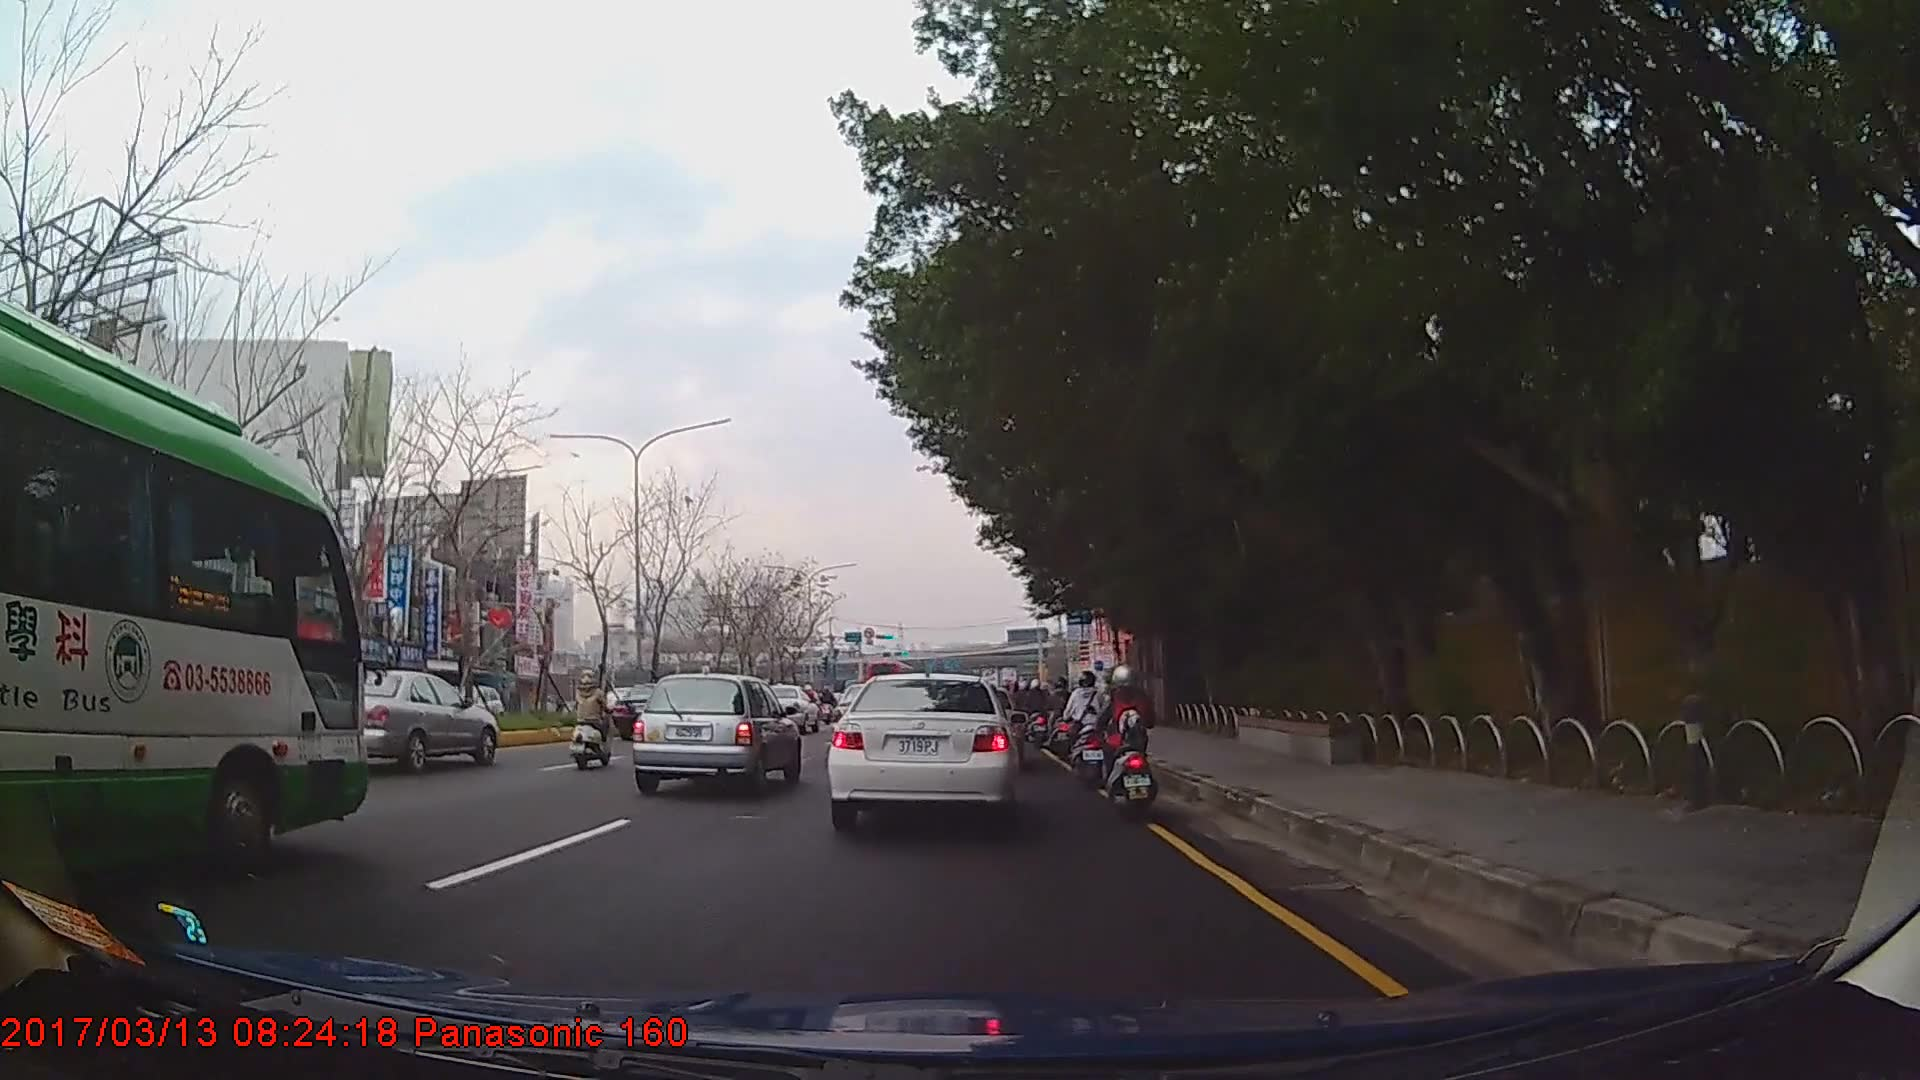rider: (1100, 663, 1160, 818), (1064, 672, 1111, 784), (578, 668, 620, 768), (1043, 677, 1069, 746)
vehicle: (0, 290, 370, 888), (824, 669, 1019, 831), (629, 668, 797, 793), (333, 666, 498, 770), (436, 680, 508, 725), (762, 682, 819, 732)
